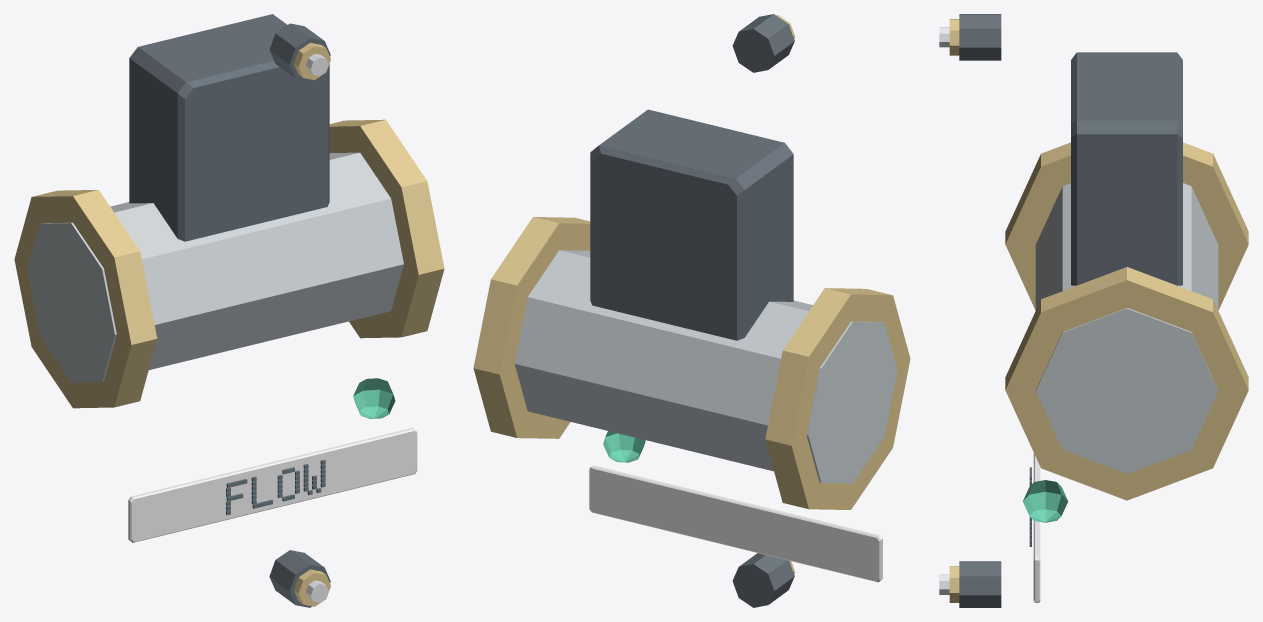
The model's file is flowSwitch.glb.
3 renders of one model, left to right at view 1: azimuth 30°, elevation 25°; view 2: azimuth 150°, elevation 25°; view 3: azimuth 270°, elevation 25°, orthographic. The views are drawn at different scales.
Parts seen in each view (by area): view 1: flowSwitch-board; view 2: flowSwitch-board; view 3: flowSwitch-board.
Part boxes in pixels (x1,y1,x2,y2): flowSwitch-board: (14,14,444,607); flowSwitch-board: (473,14,910,607); flowSwitch-board: (939,14,1248,607).
Size of the model in its own units: 1.47 by 2.52 by 1.2.
